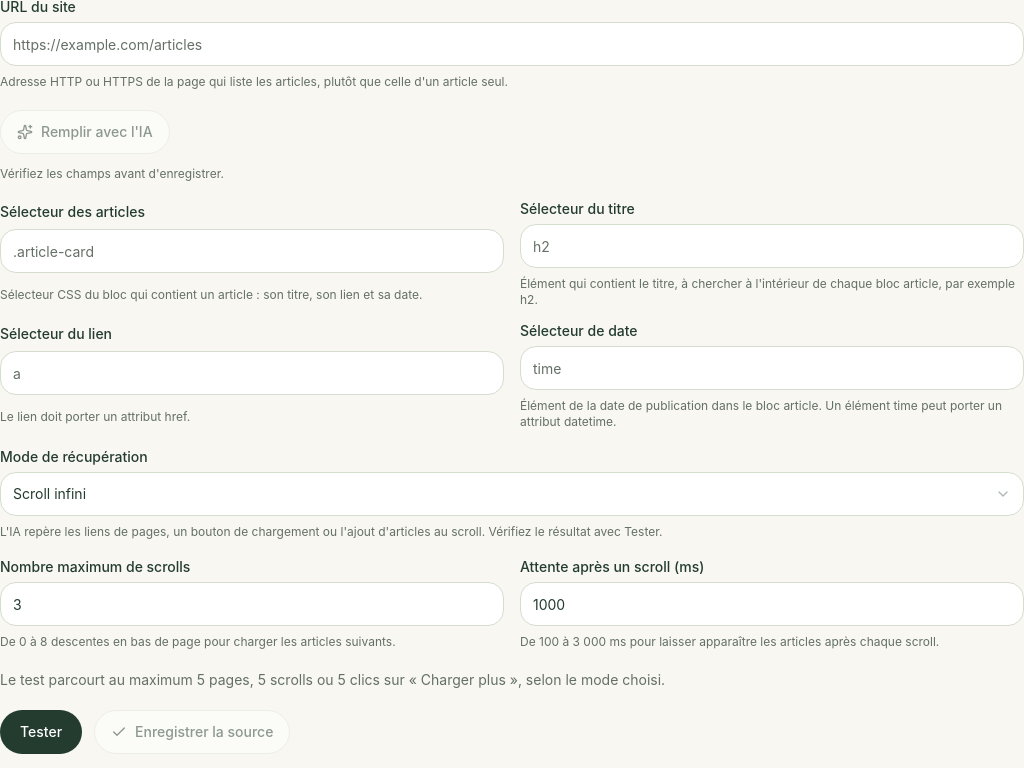
Test case: applies AI description fallback, date and retrieval settings: SCROLL $pagination.strategy
The width and height of the screenshot is (1024, 768).
In the field labelled "URL du site": (512, 44) [0,22,1023,66], type "https://example.com/news"
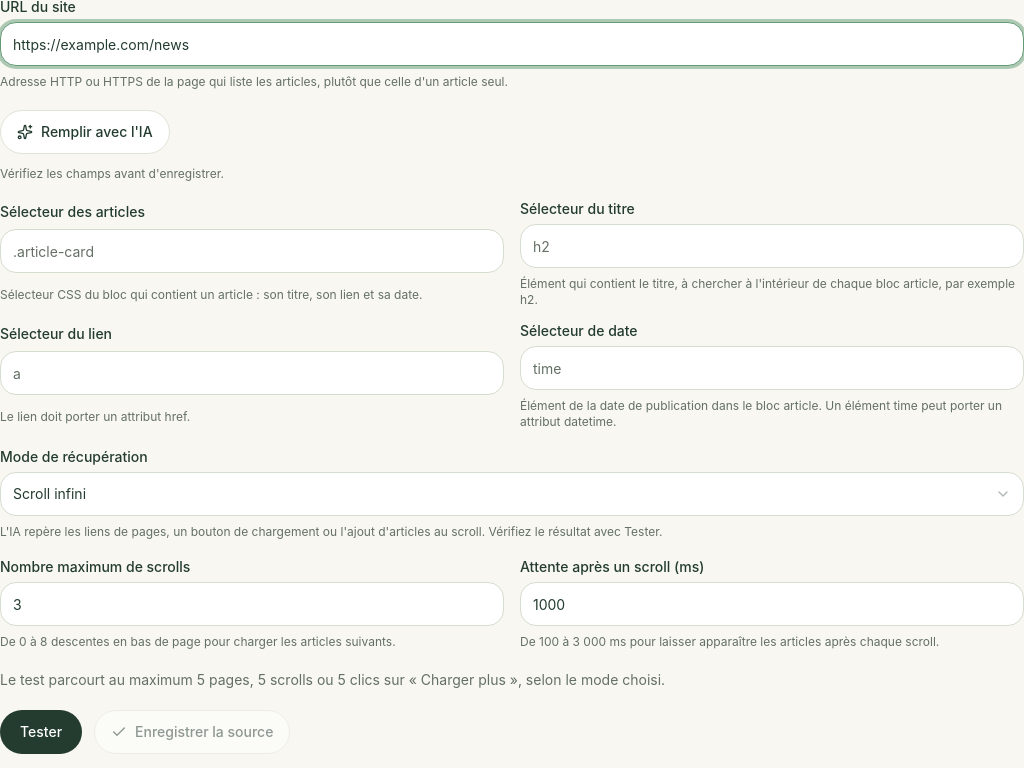
Click the button "Remplir avec l'IA": (85, 132) [0,110,170,154]
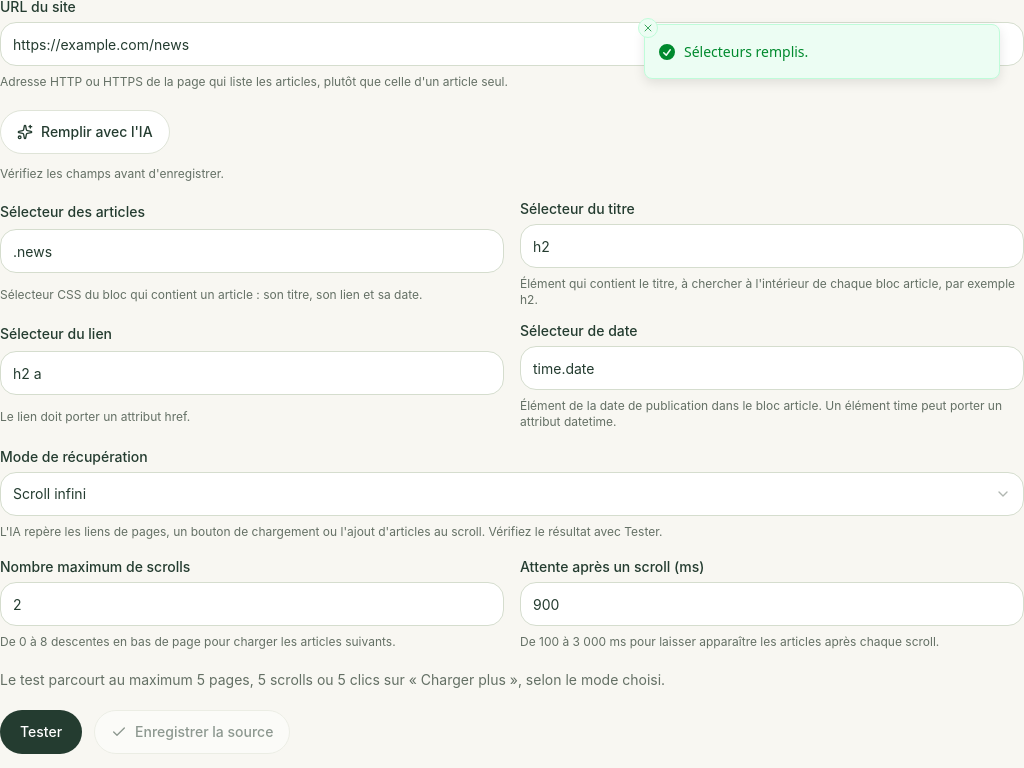
Now the field showing "time.date" is shown, box [520,346,1023,390]
Now the number field labelled "Nombre maximum de scrolls" holds "2", box [0,582,504,626]
Now the number field labelled "Attente après un scroll (ms)" holds "900", box [520,582,1023,626]
Click the button "Tester": (41, 732) [0,710,82,754]
(page scrolled)
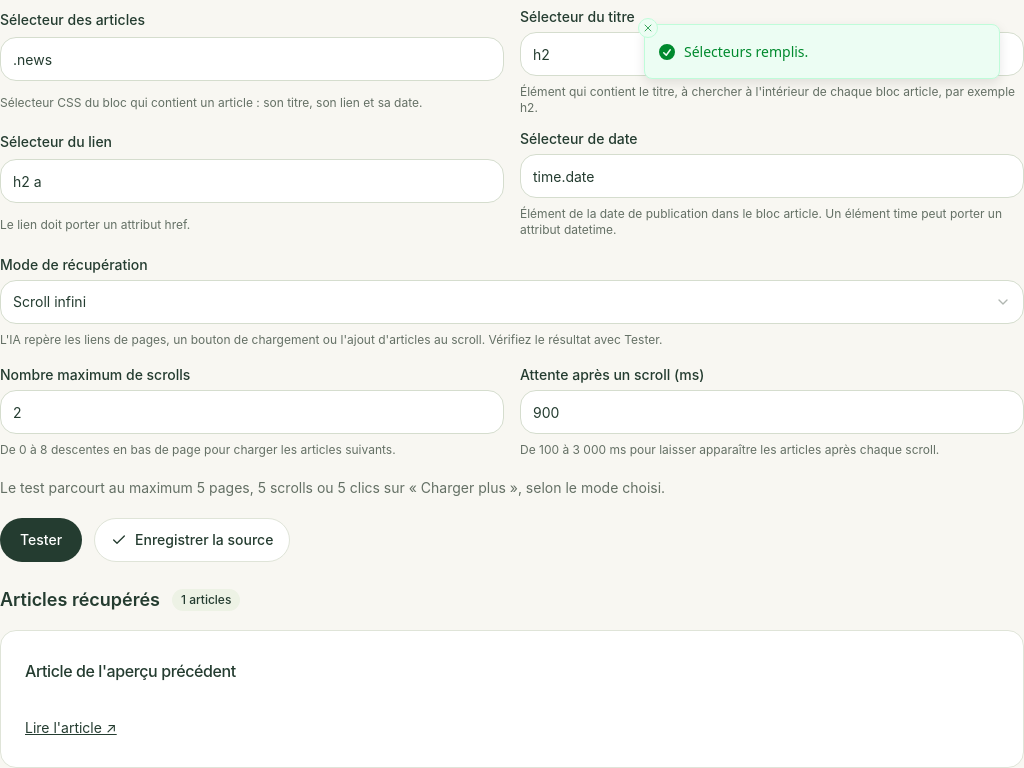
Now the text "Article de l'aperçu précédent" is shown, box [25,661,236,681]
